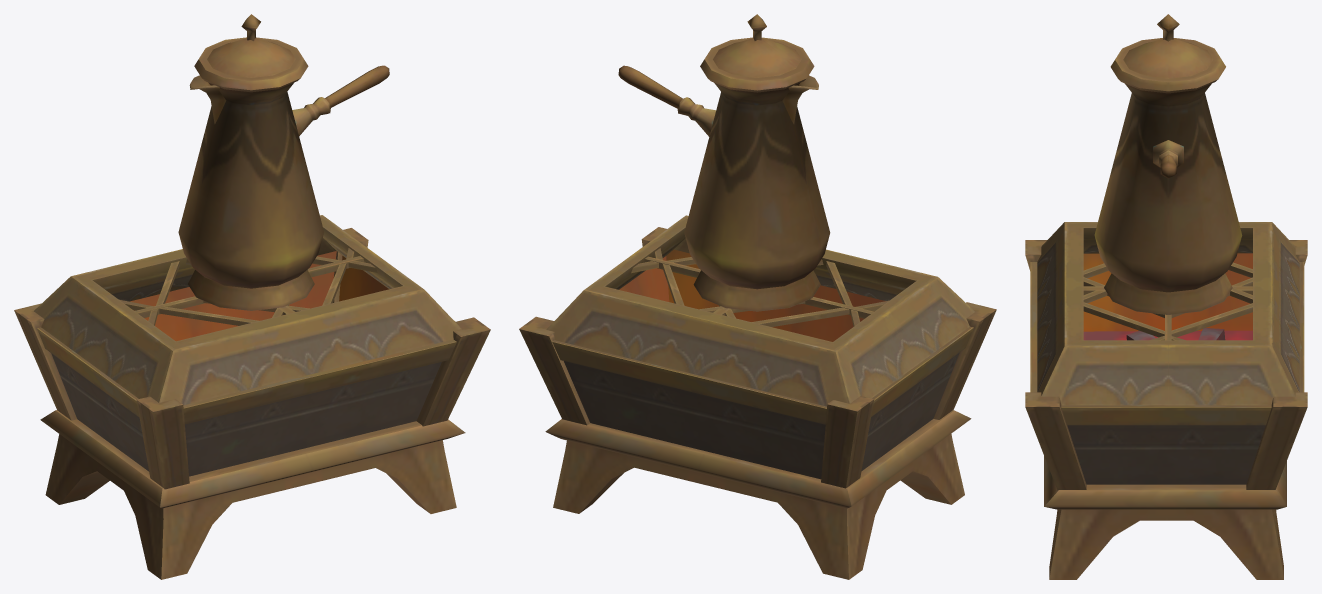
Rendered from Homeworld_Interior_Xm_Thing_Prop_CafeStove_01_Lod0.fbx.
3 views of the same model, side by side, from view 1: azimuth 30°, elevation 25°; view 2: azimuth 150°, elevation 25°; view 3: azimuth 270°, elevation 25° (orthographic).
Visible parts, largest first — view 1: Indoor_Xm_Prop_Barbecue_Decoration_04_Lod0; view 2: Indoor_Xm_Prop_Barbecue_Decoration_04_Lod0; view 3: Indoor_Xm_Prop_Barbecue_Decoration_04_Lod0.
Boxes of the visible parts, x1,y1,x2,y2 form: Indoor_Xm_Prop_Barbecue_Decoration_04_Lod0: (14, 14, 490, 579); Indoor_Xm_Prop_Barbecue_Decoration_04_Lod0: (519, 14, 996, 579); Indoor_Xm_Prop_Barbecue_Decoration_04_Lod0: (1025, 14, 1307, 579).
Size of the model in its own units: 1.2 by 1.65 by 0.8557.
